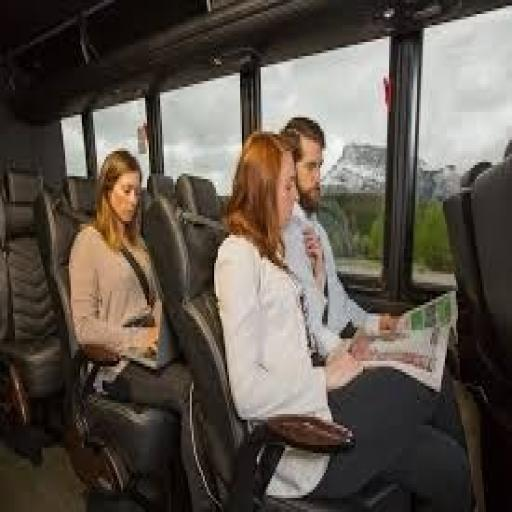sitting: (212, 126, 473, 509), (65, 146, 194, 506)
